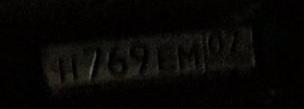license-plateSW: (40, 22, 256, 96)
